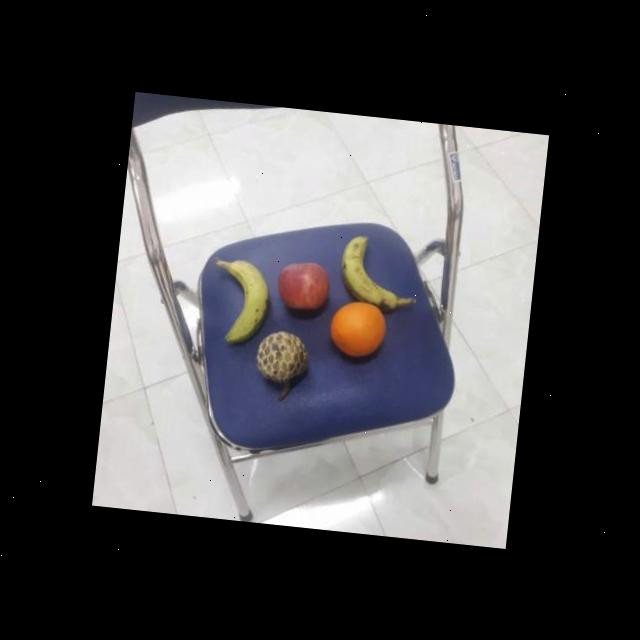Sakya fruit: (251, 328, 311, 387)
apple: (276, 258, 335, 316)
banana: (334, 232, 415, 312), (206, 256, 275, 346)
orange: (328, 297, 392, 363)
